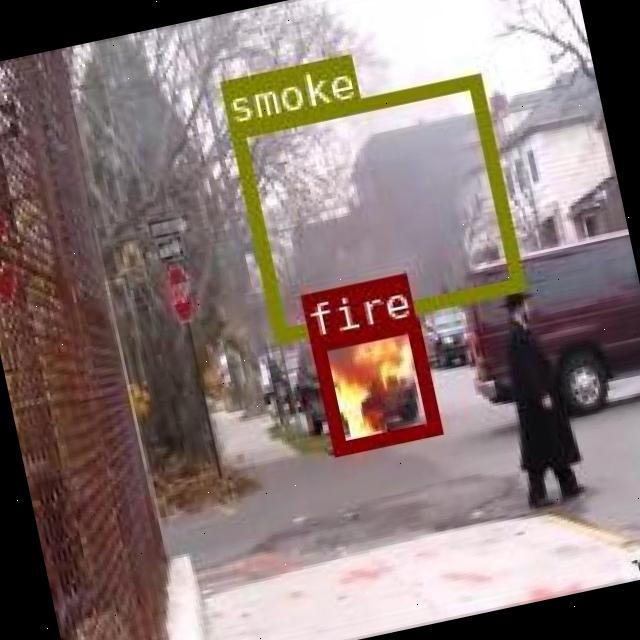fire: (308, 318, 438, 454)
smoke: (228, 73, 522, 341)
